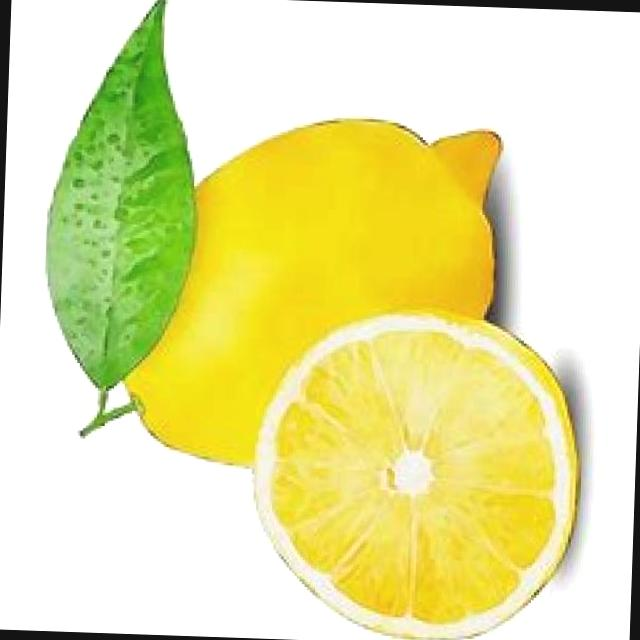lemon: (111, 78, 518, 466), (226, 302, 581, 640)
